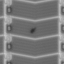dust: (28, 27, 36, 33)
